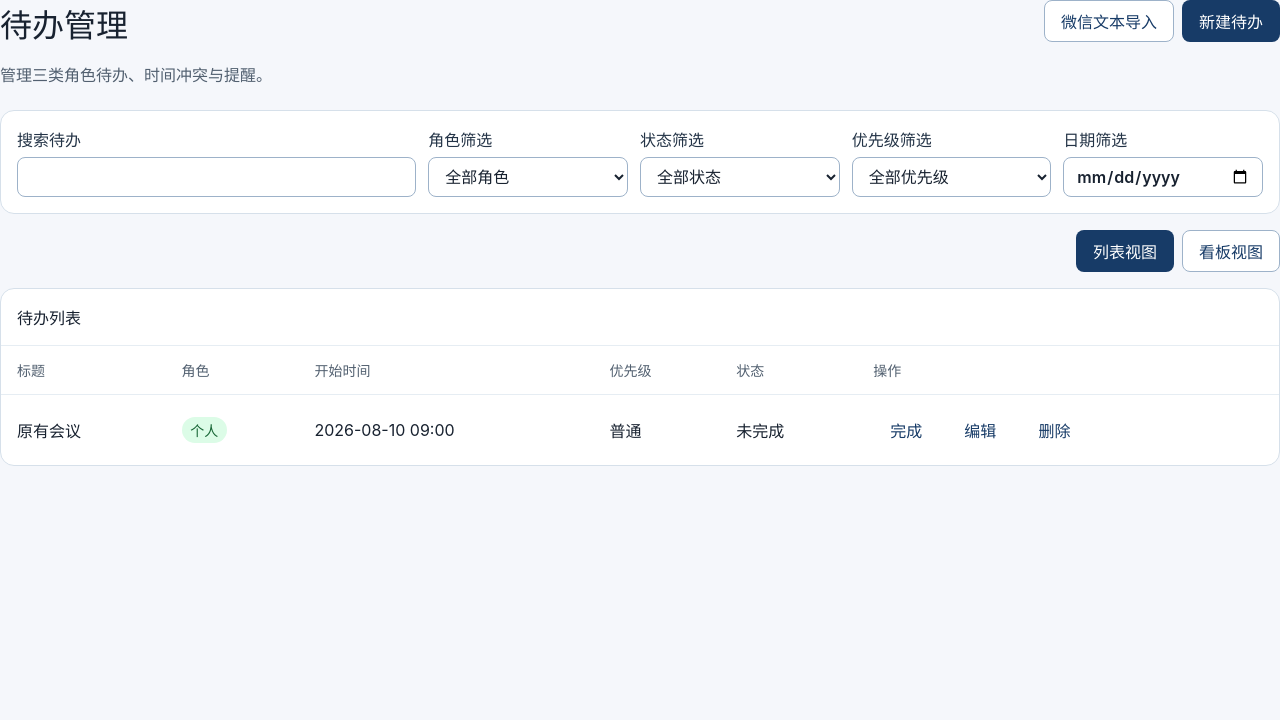
TodoPage › creates a dean todo and confirms a detected conflict
Check: the text "原有会议" is shown, box [17,421,81,441]
Click the button "新建待办": (1231,21) [1182,0,1279,42]
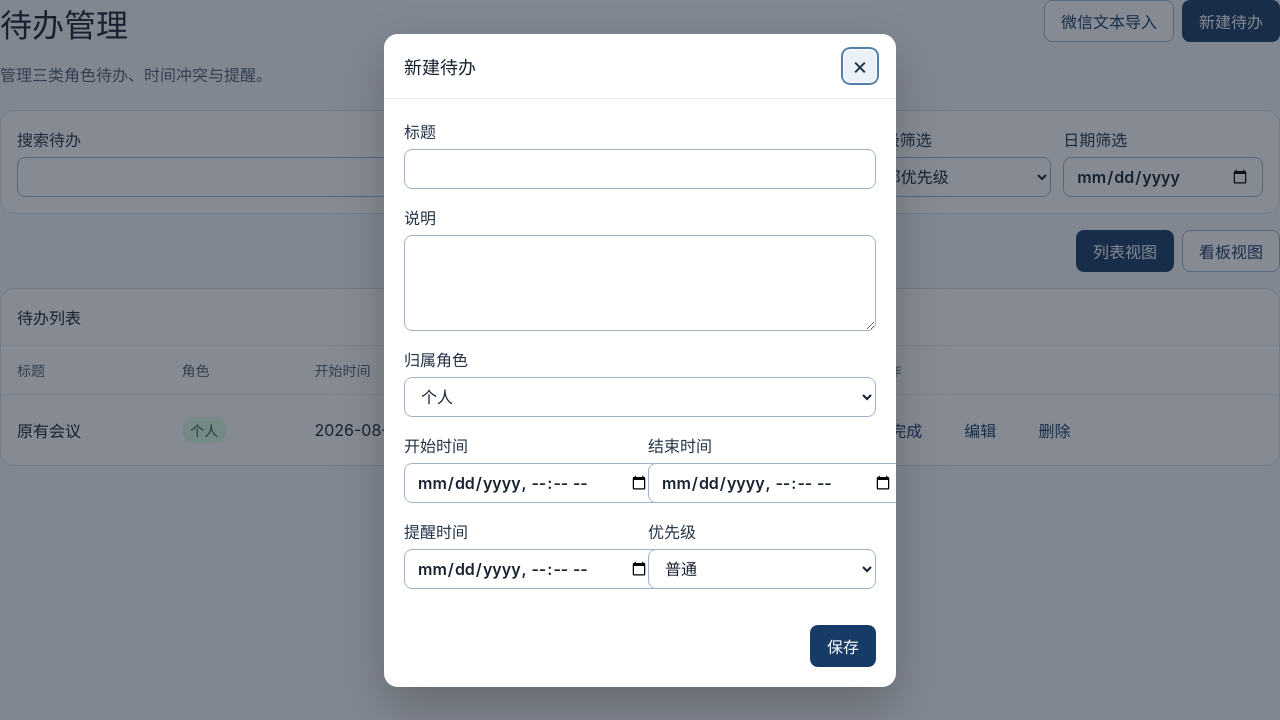
In the field labelled "标题": (640,168) [404,148,876,188], type "审核预算"
Select "院长助理" in the dropdown labelled "归属角色": (640,396) [404,376,876,416]
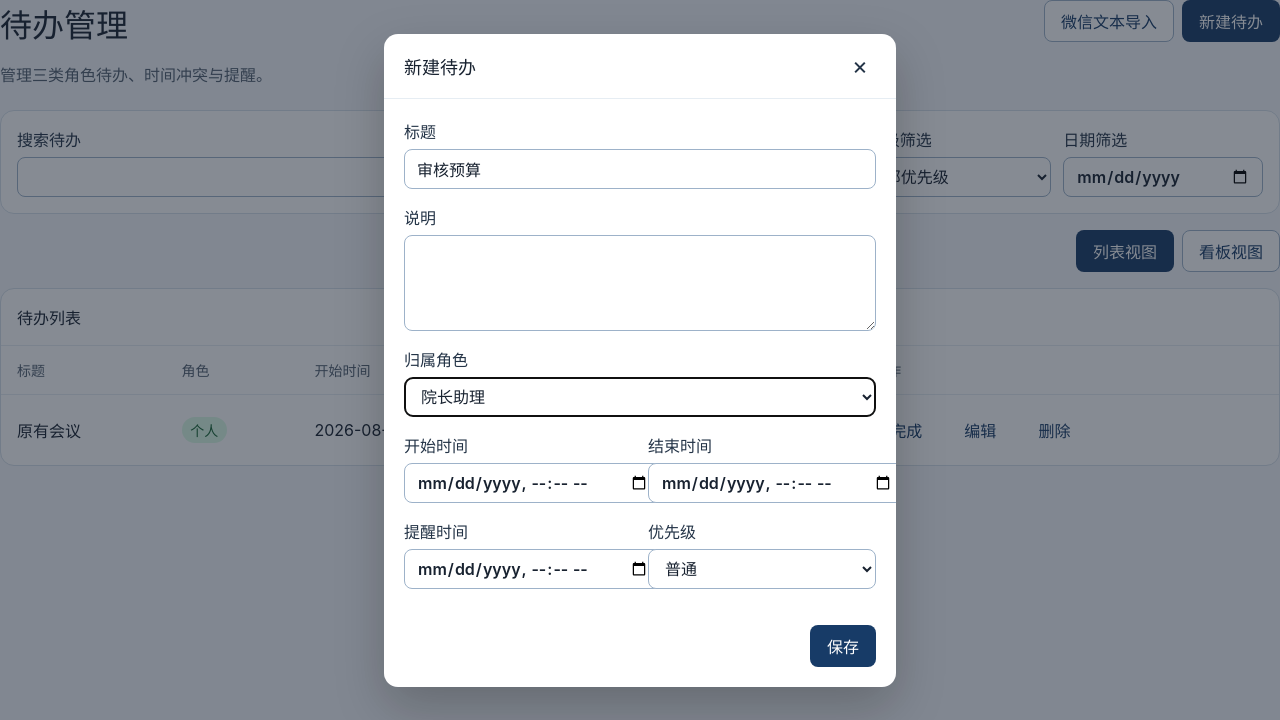
In the field labelled "开始时间": (533,482) [404,462,662,502], type "2026-08-10T09:30"
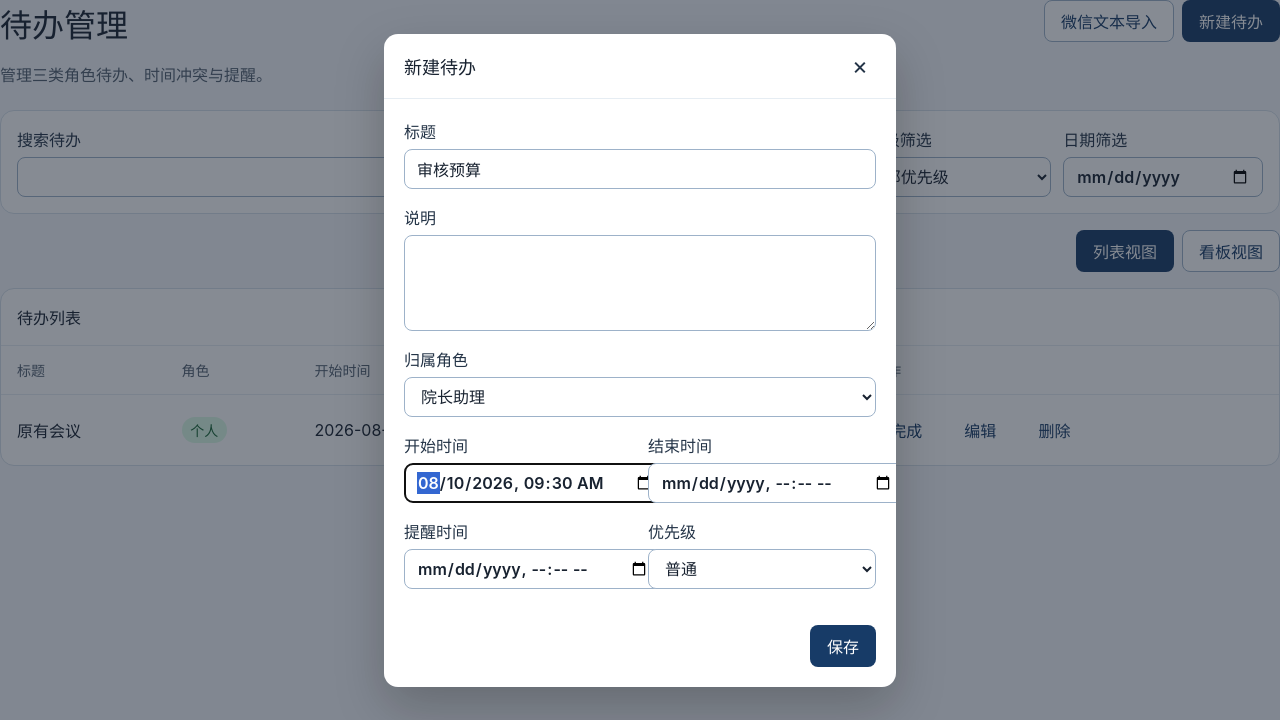
In the field labelled "结束时间": (777,482) [648,462,906,502], type "2026-08-10T10:30"
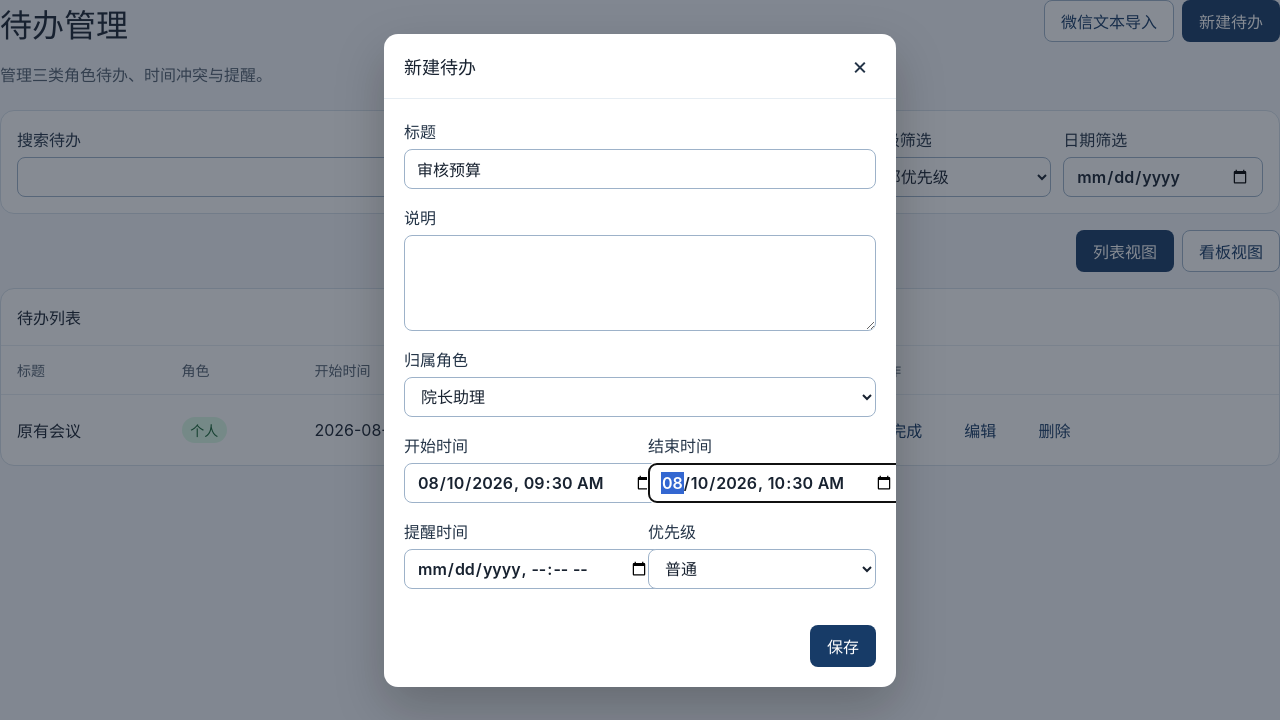
Click the button "保存": (843,646) [810,624,876,666]
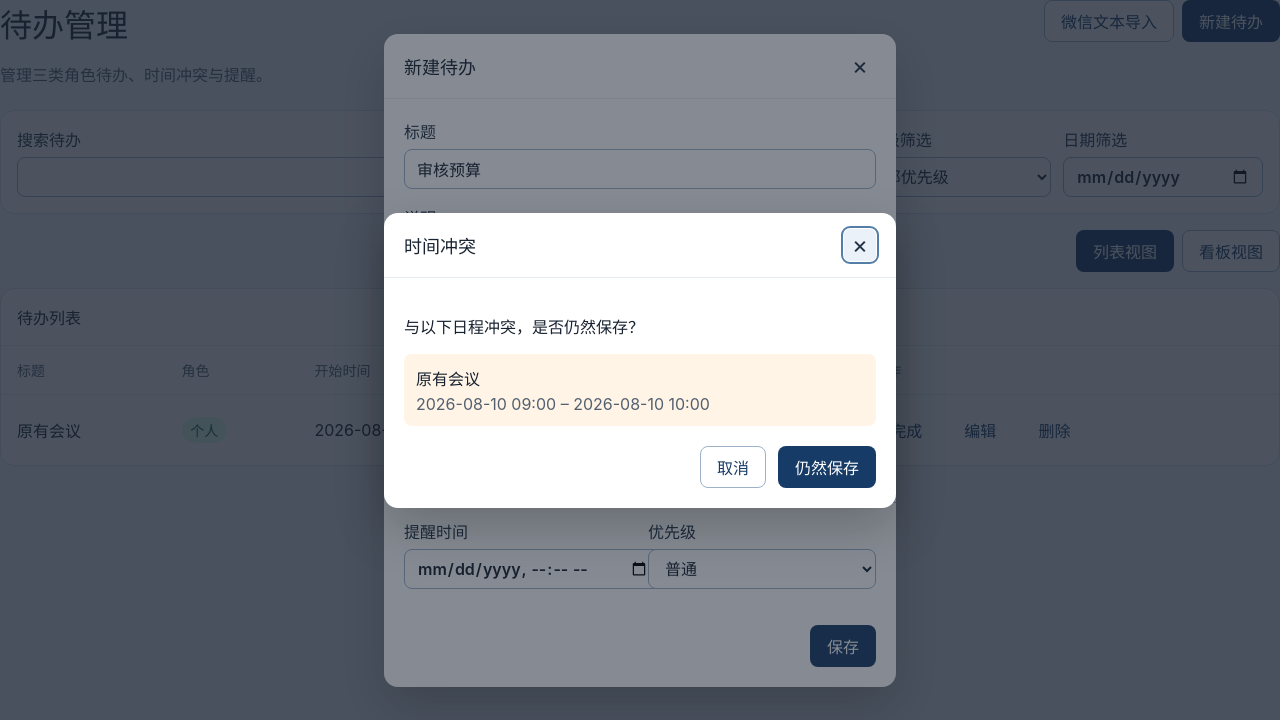
Check: the text "与以下日程冲突，是否仍然保存？" is shown, box [404,316,644,336]
Check: the text "原有会议" is shown, box [416,368,480,388]
Click the button "仍然保存": (827,466) [778,446,876,488]
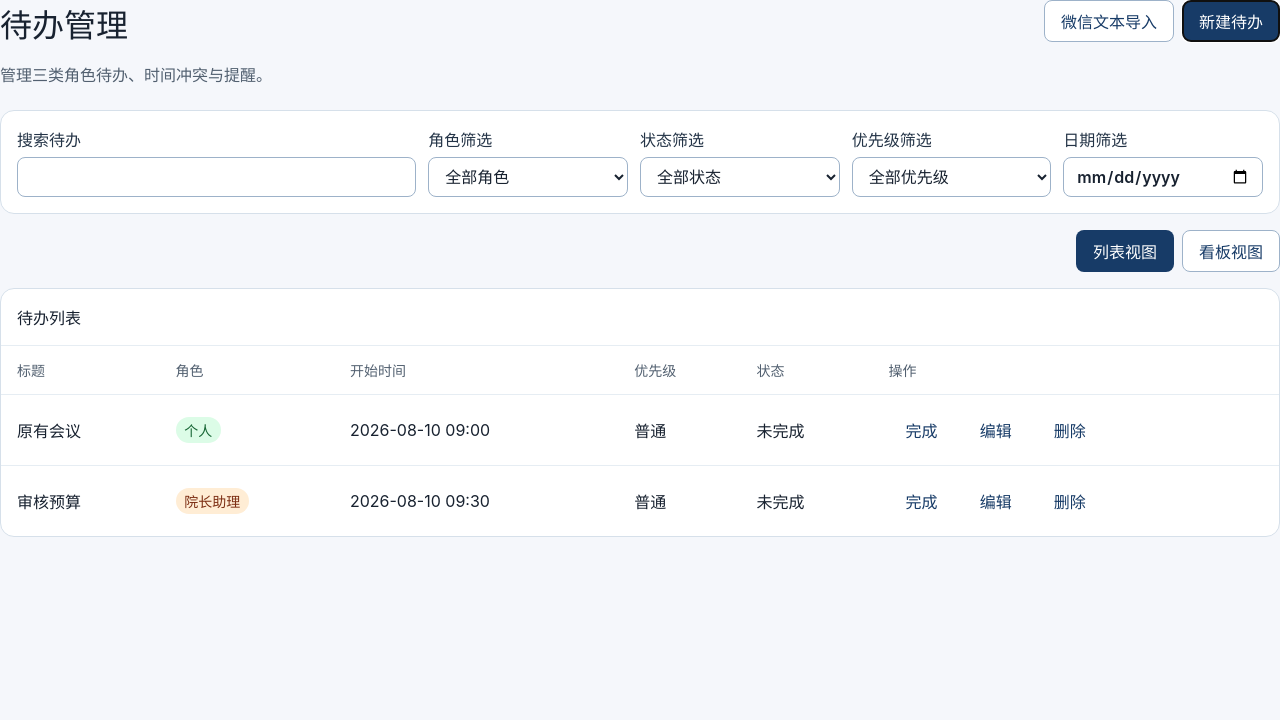
Check: the text "审核预算" is shown, box [17,492,81,512]
